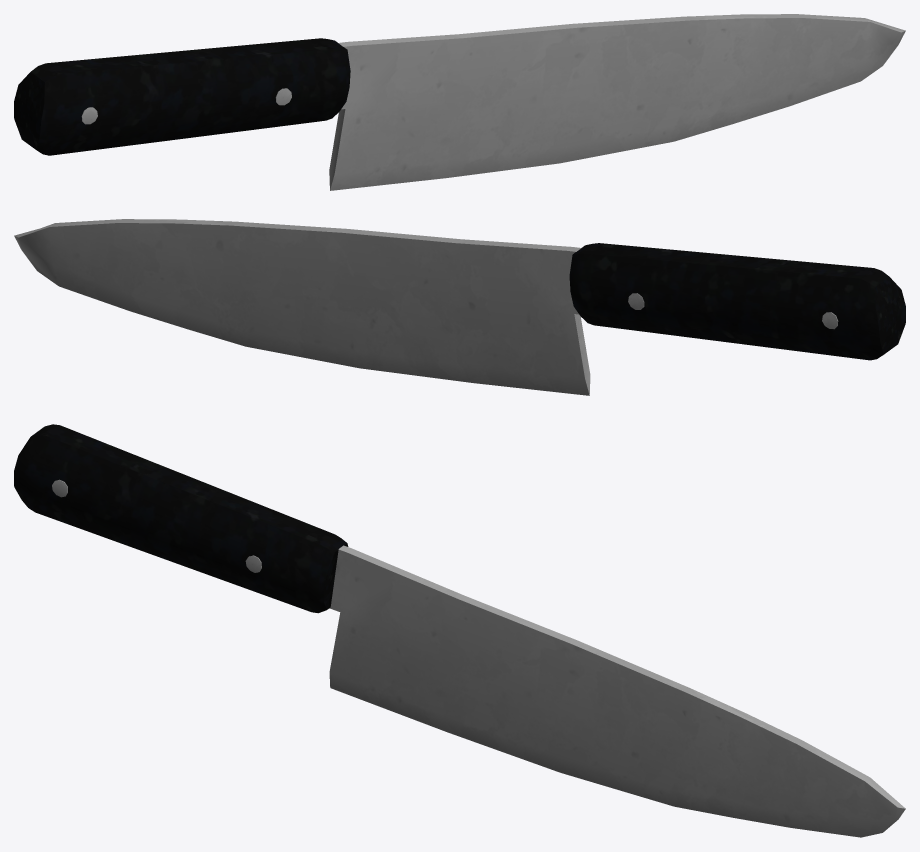
Rendered from Bıcak2.fbx.
The picture shows the model from 3 angles, top to bottom: view 1: azimuth 30°, elevation 25°; view 2: azimuth 150°, elevation 25°; view 3: azimuth 330°, elevation 25°; orthographic projection.
Visible parts, largest first — view 1: bıcak; view 2: bıcak; view 3: bıcak.
Boxes of the visible parts, bbox=[...] form: bıcak: bbox=[14, 14, 905, 190]; bıcak: bbox=[14, 219, 905, 395]; bıcak: bbox=[14, 424, 905, 837].
Bounding box in the file's own units: 70.73 × 17.29 × 4.22.
